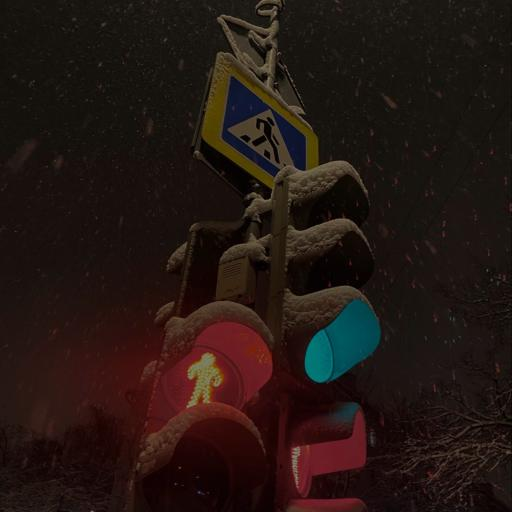pole: (128, 220, 274, 512), (267, 161, 380, 512)
